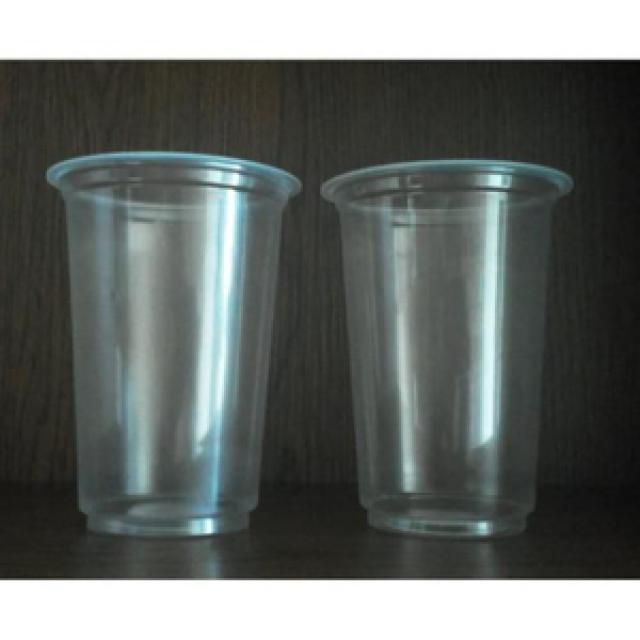plastic cup: (38, 145, 305, 548), (313, 151, 574, 544)
